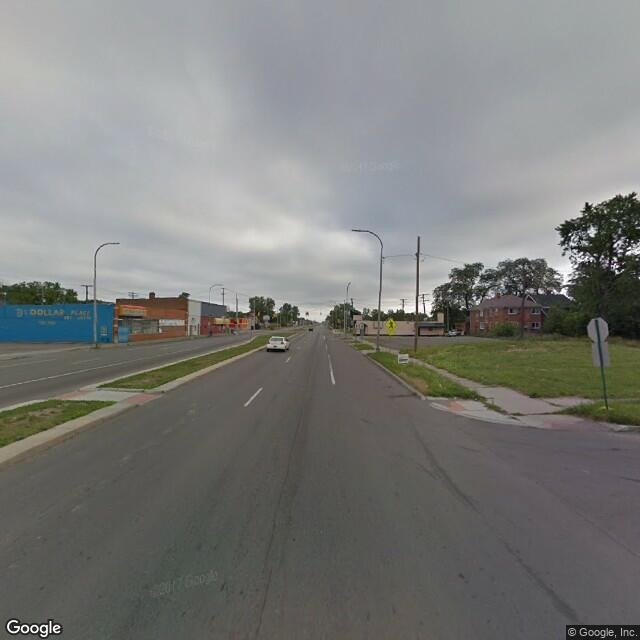litter: (451, 394, 457, 398), (437, 382, 442, 385)
